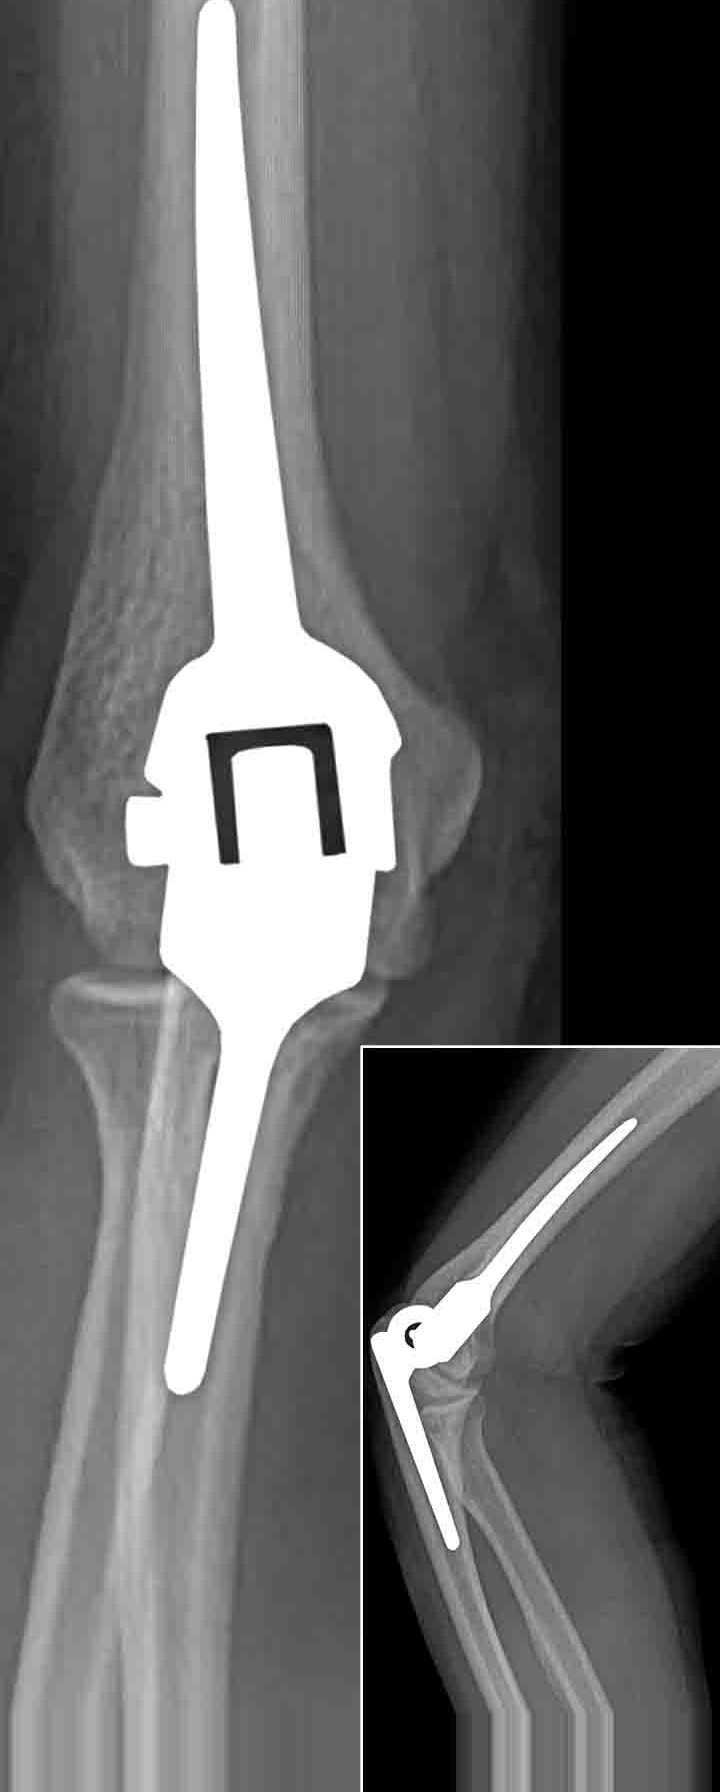Elbow - Osteonics - Stryker: (95, 1, 413, 1293), (363, 1070, 695, 1582)
